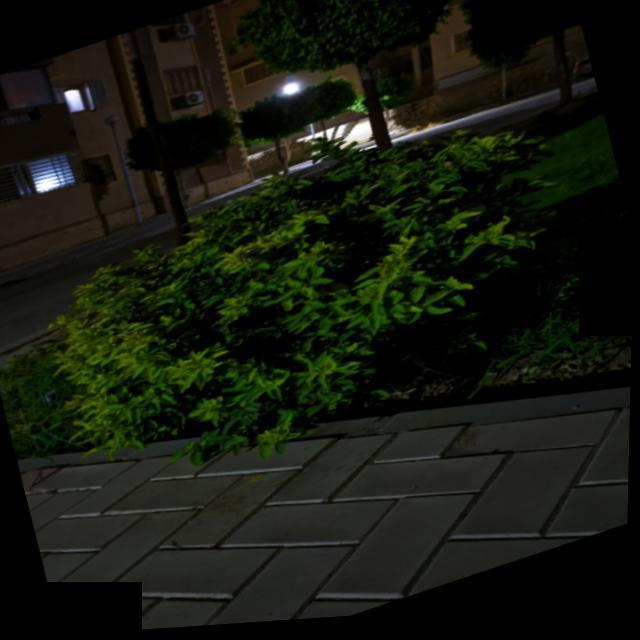tree: (238, 0, 487, 199), (454, 0, 600, 135), (121, 103, 248, 224), (235, 89, 326, 182), (296, 74, 369, 161), (345, 74, 426, 148)
